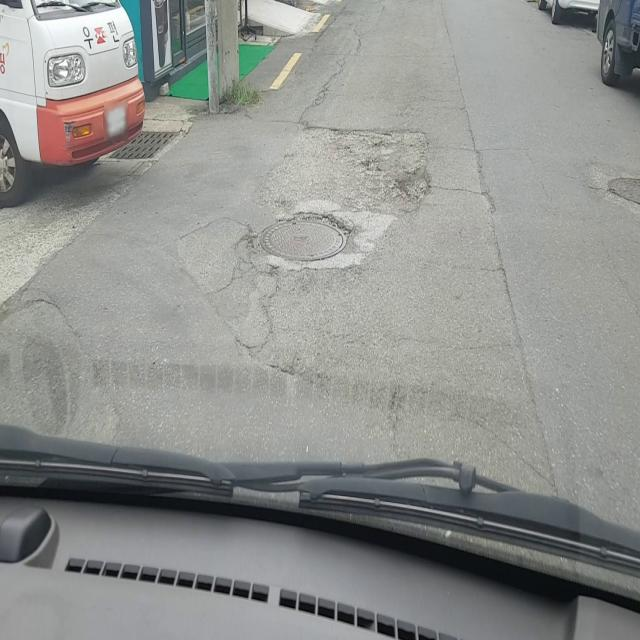Pothole: (258, 210, 353, 264)
